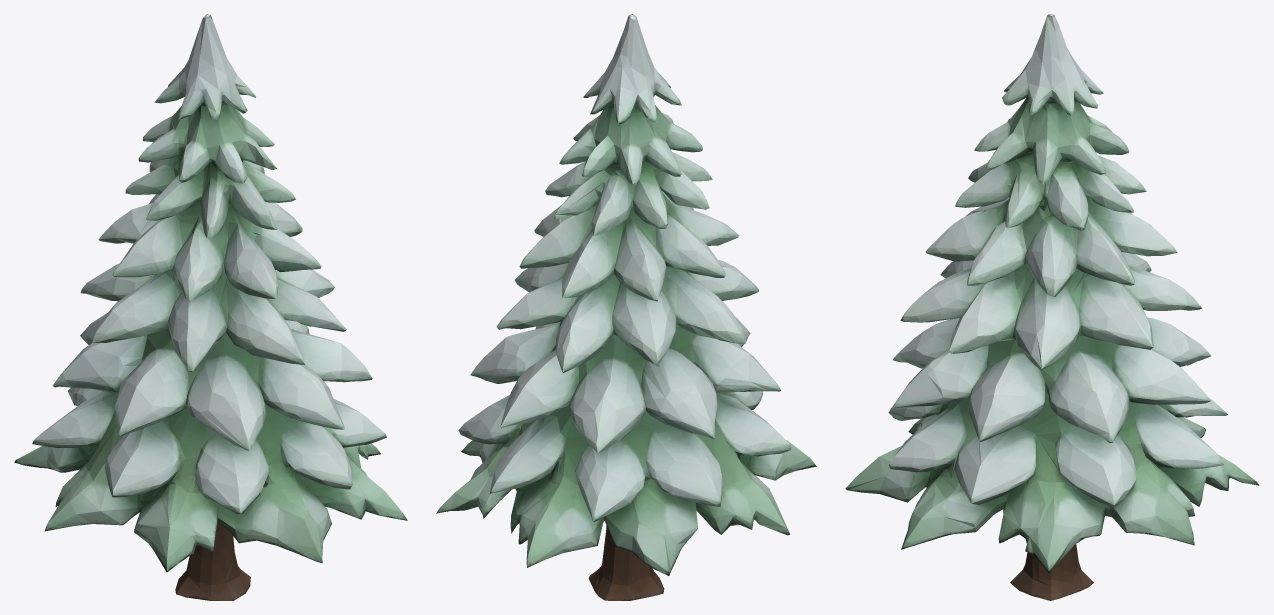
Rendered from snow_pine_tree.glb.
3 views of the same model, side by side, from view 1: azimuth 30°, elevation 25°; view 2: azimuth 150°, elevation 25°; view 3: azimuth 270°, elevation 25° (orthographic).
Parts seen in each view (by area): view 1: world; view 2: world; view 3: world.
Boxes of the visible parts, x1=… form: world: x1=14, y1=14, x2=407, y2=600; world: x1=436, y1=14, x2=816, y2=600; world: x1=845, y1=14, x2=1259, y2=600.
Size of the model in its own units: 0.6094 by 0.9988 by 0.6627.
Materials: 1 (1 with a texture image).
